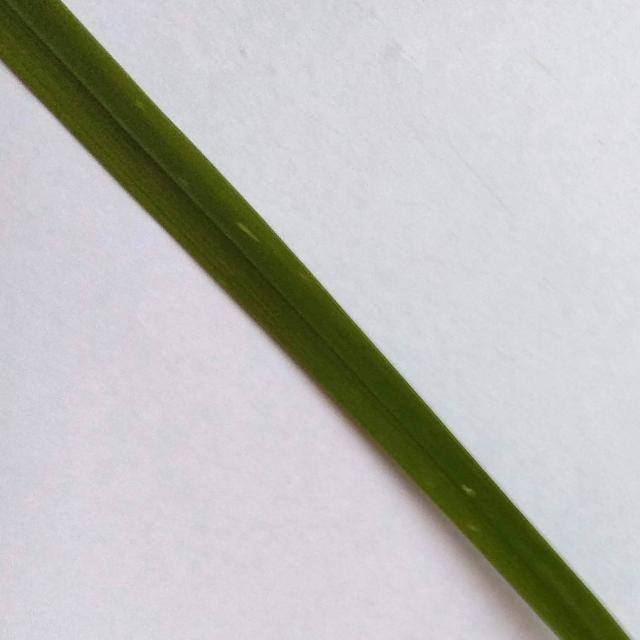Rice_Healthy: (0, 0, 631, 640)
